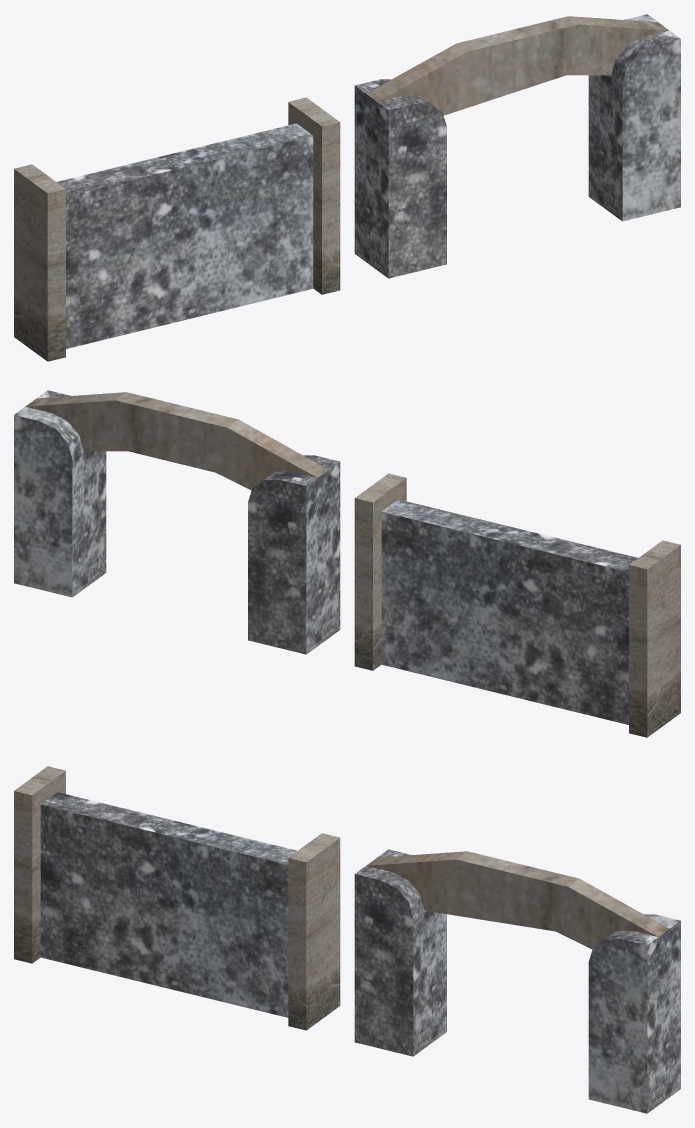
The model's file is TDB_FortressParts.fbx.
3 renders of one model, top to bottom at view 1: azimuth 30°, elevation 25°; view 2: azimuth 150°, elevation 25°; view 3: azimuth 330°, elevation 25°, orthographic.
Parts seen in each view (by area): view 1: Wall, Arch; view 2: Wall, Arch; view 3: Wall, Arch.
Part boxes in pixels (x1,y1,x2,y2): Wall: [14, 97, 340, 361]; Arch: [354, 14, 680, 278]; Wall: [354, 473, 680, 737]; Arch: [14, 390, 340, 654]; Wall: [14, 766, 340, 1030]; Arch: [354, 849, 680, 1113].
Bounding box in the file's own units: 21.65 × 2 × 6.43.
